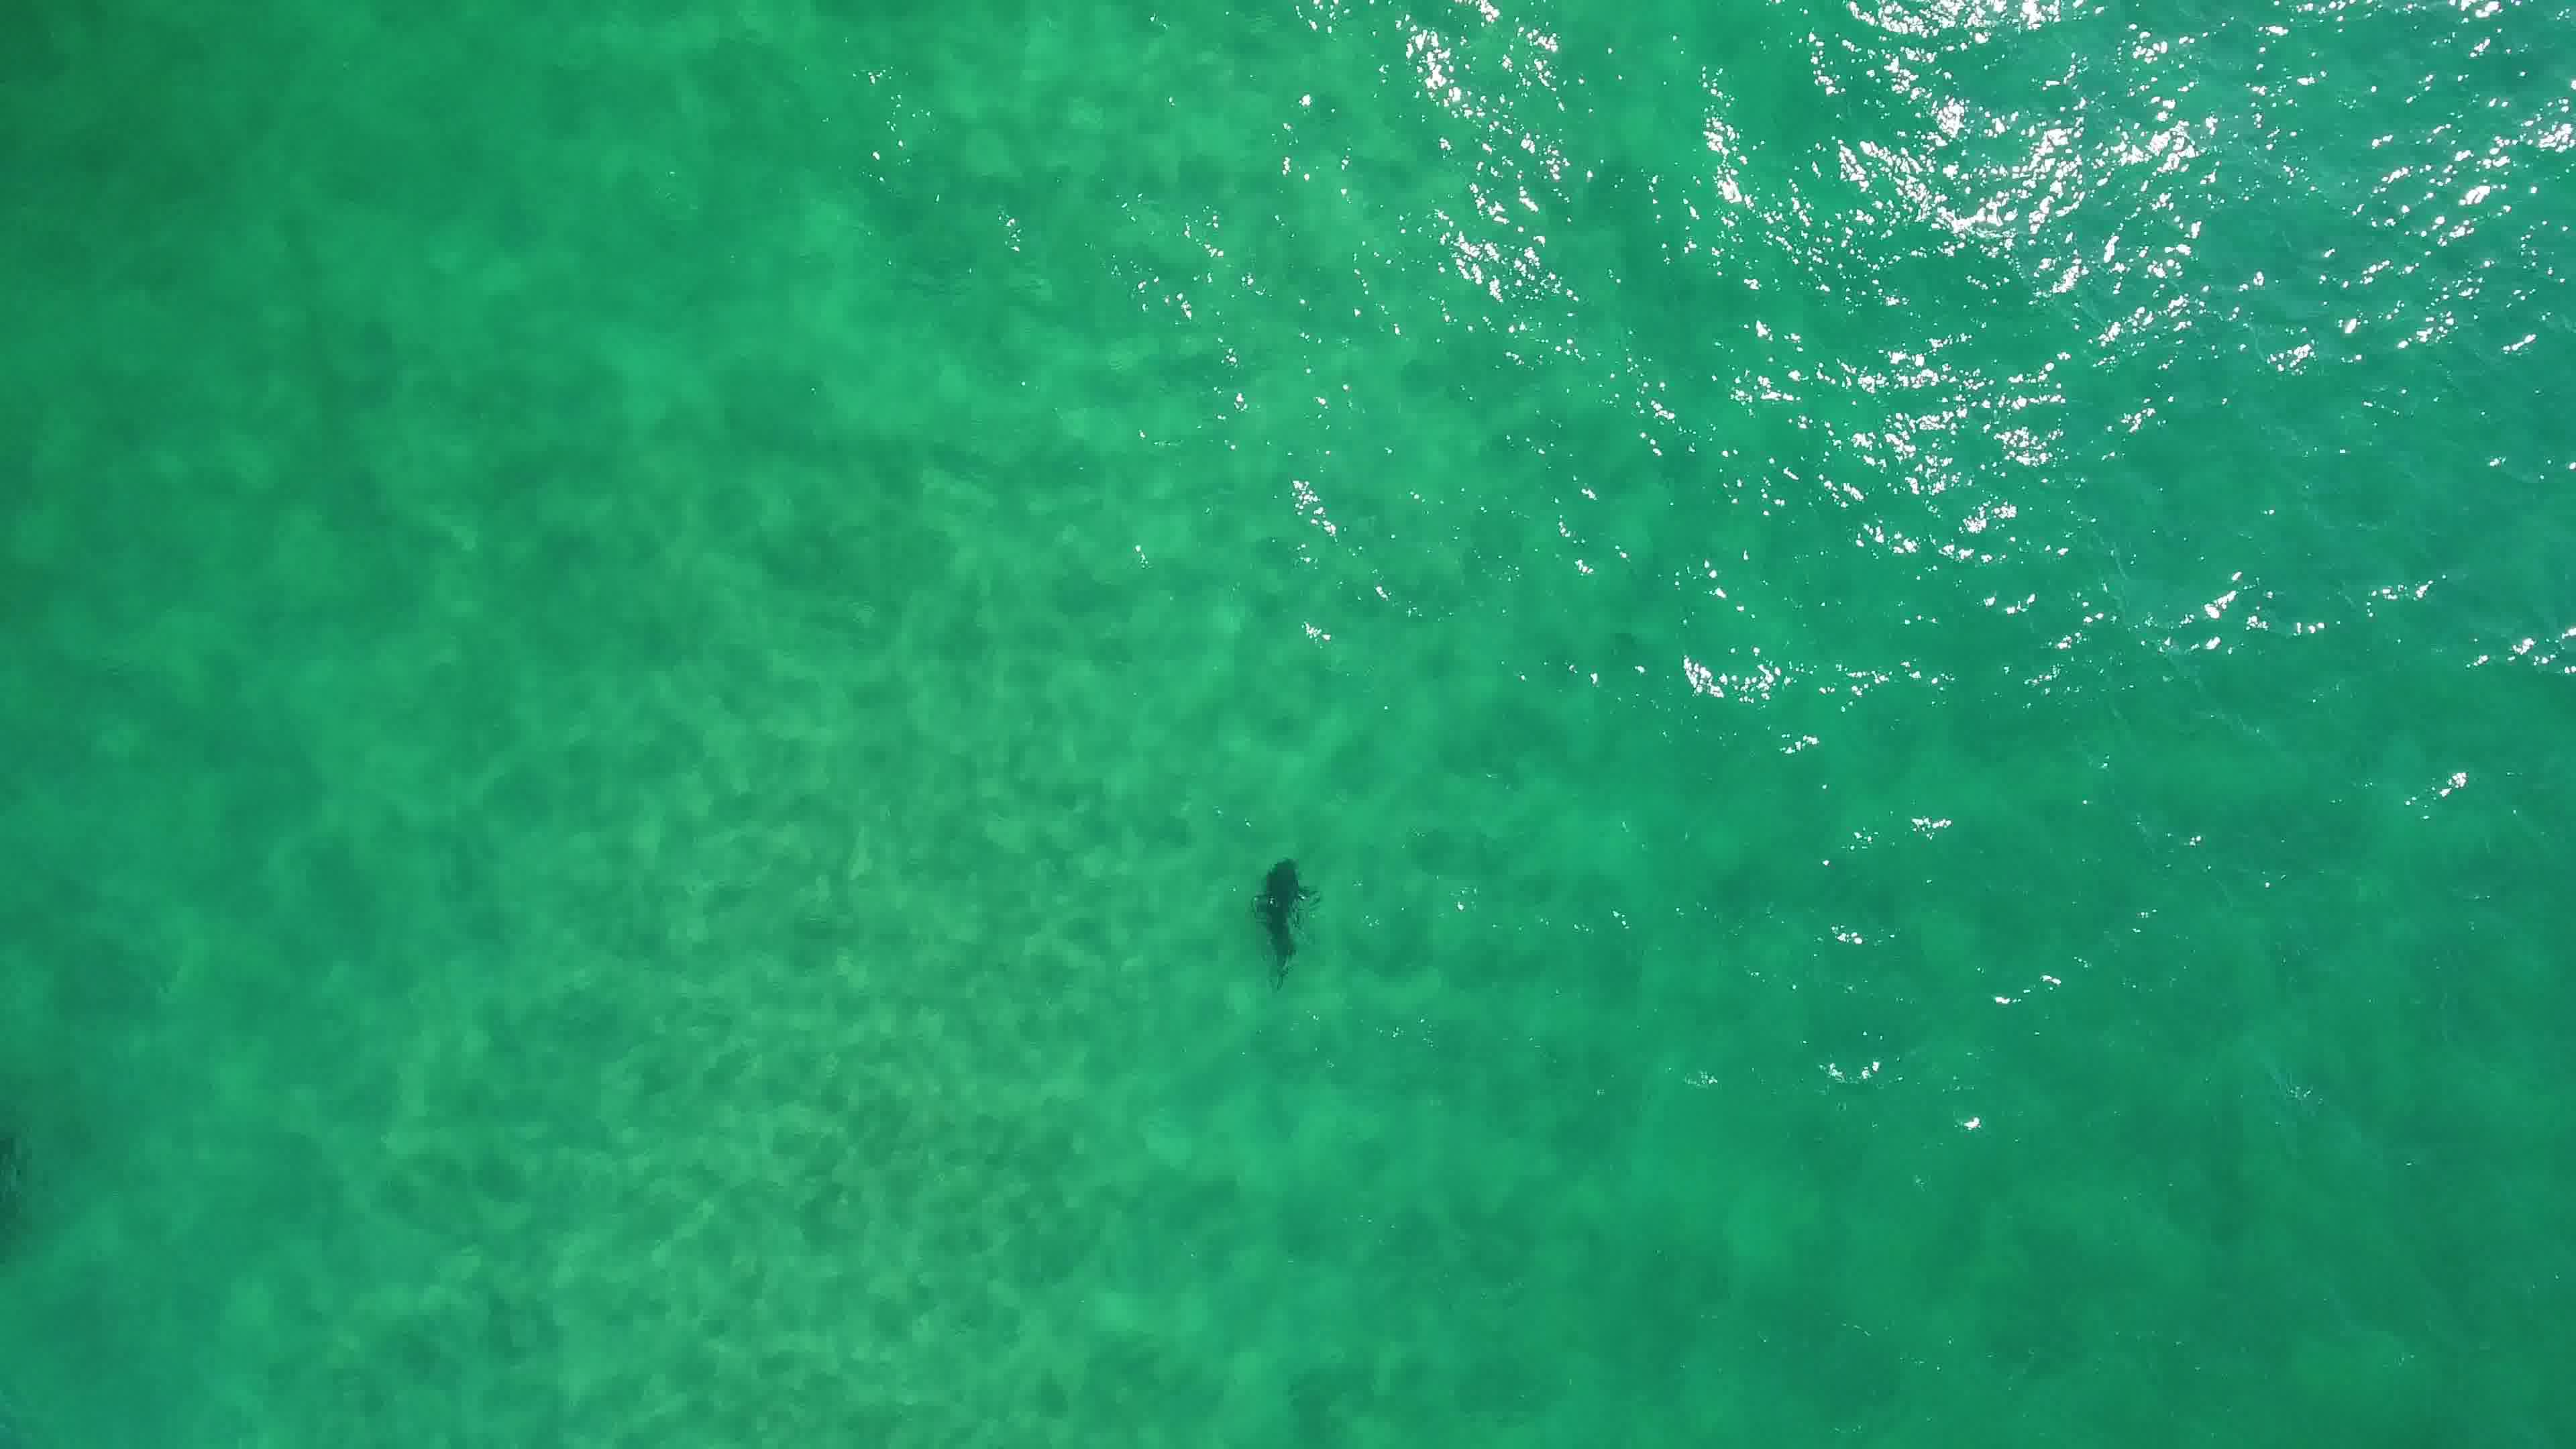shark: (1244, 849, 1325, 994)
